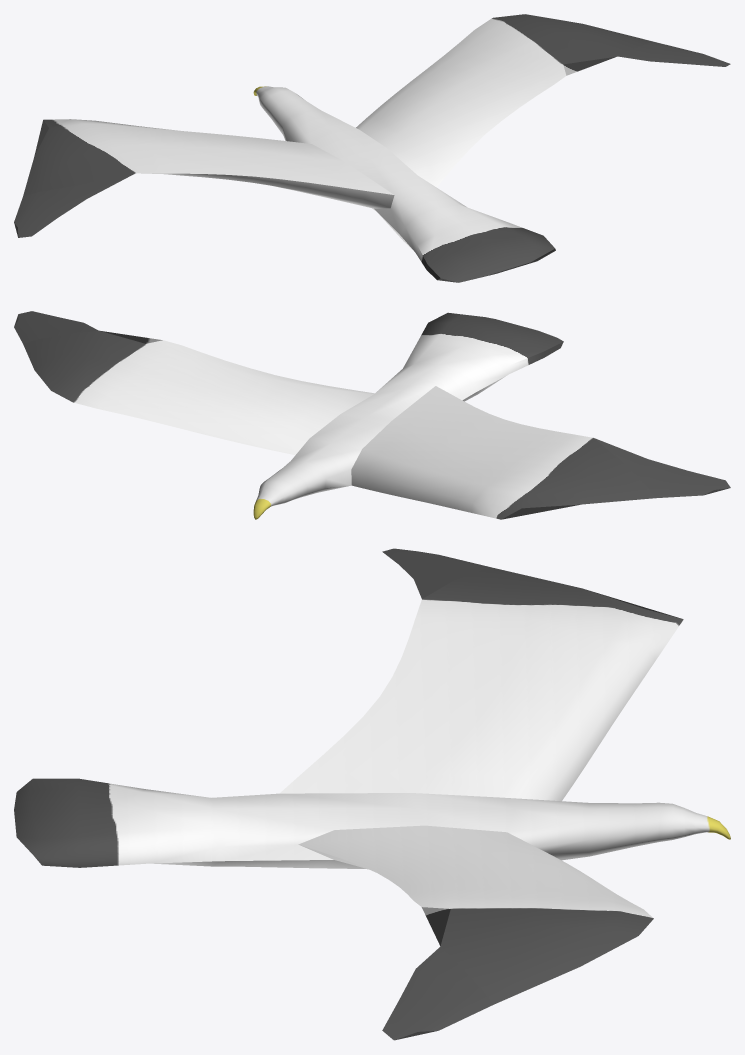
File: seagull.fbx
3 renders of one model, top to bottom at view 1: azimuth 30°, elevation 25°; view 2: azimuth 150°, elevation 25°; view 3: azimuth 270°, elevation 25°, orthographic. The views are drawn at different scales.
Parts seen in each view (by area): view 1: instance_0.001; view 2: instance_0.001; view 3: instance_0.001.
Boxes of the visible parts, x1,y1,x2,y2 form: instance_0.001: (14, 14, 730, 282); instance_0.001: (14, 311, 730, 519); instance_0.001: (14, 548, 730, 1040).
Bounding box in the file's own units: 121 × 12.49 × 74.54.
